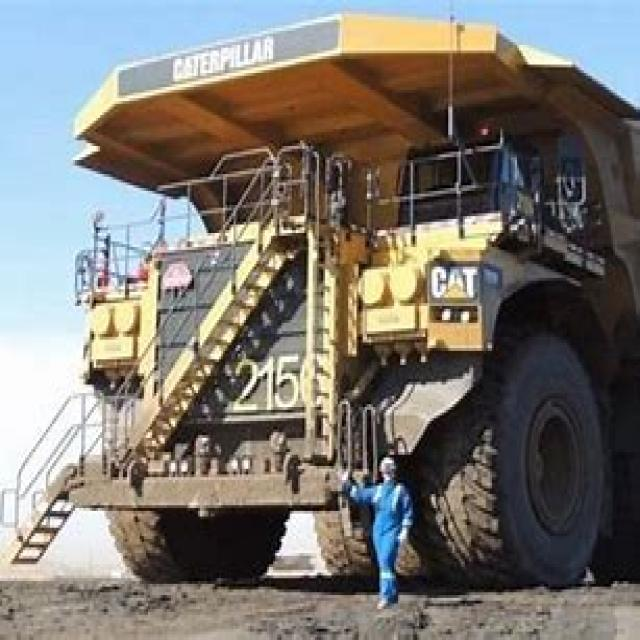dump_truck: (42, 14, 638, 595)
